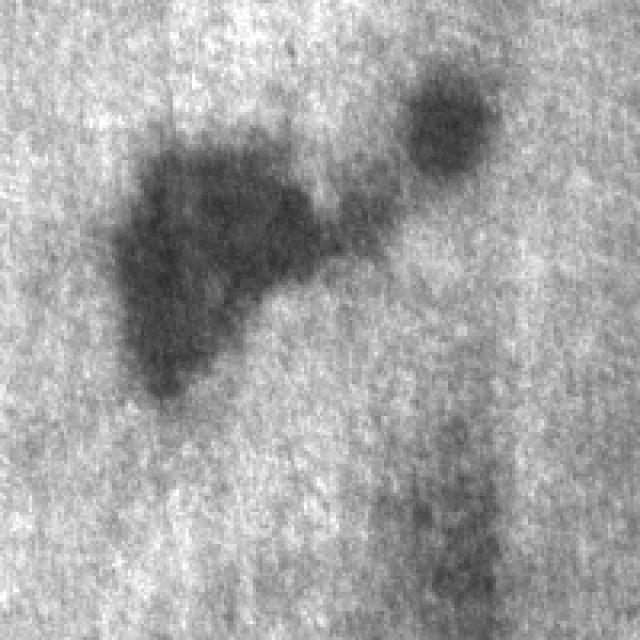patches: (118, 74, 508, 390), (340, 429, 550, 640)
